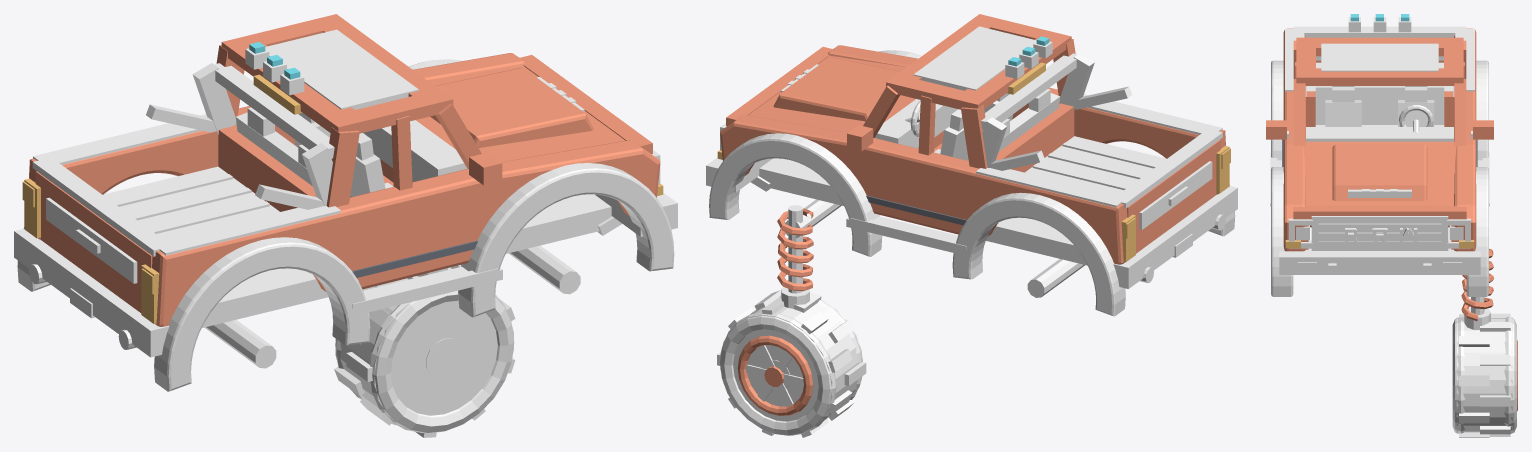
The picture shows the model from 3 angles, left to right: view 1: azimuth 30°, elevation 25°; view 2: azimuth 150°, elevation 25°; view 3: azimuth 270°, elevation 25°; orthographic projection. The views are drawn at different scales.
Visible parts, largest first — view 1: common, bodyPainted, wheel, backLights, energy, stopLights; view 2: common, bodyPainted, wheel, wheelSuspension, wheelPainted, backLights, energy; view 3: common, bodyPainted, wheel, headlights, wheelSuspension.
Part boxes in pixels (x1=…): common: x1=14, y1=29, x2=677, y2=391; bodyPainted: x1=29, y1=14, x2=660, y2=326; wheel: x1=334, y1=265, x2=515, y2=437; backLights: x1=24, y1=178, x2=159, y2=323; energy: x1=352, y1=240, x2=477, y2=277; stopLights: x1=253, y1=74, x2=302, y2=114; common: x1=706, y1=26, x2=1237, y2=316; bodyPainted: x1=720, y1=14, x2=1225, y2=264; wheel: x1=717, y1=290, x2=866, y2=437; wheelSuspension: x1=777, y1=205, x2=813, y2=308; wheelPainted: x1=737, y1=335, x2=813, y2=415; backLights: x1=1121, y1=145, x2=1229, y2=262; energy: x1=866, y1=195, x2=966, y2=225; common: x1=1270, y1=26, x2=1489, y2=296; bodyPainted: x1=1266, y1=28, x2=1493, y2=251; wheel: x1=1452, y1=313, x2=1516, y2=437; headlights: x1=1288, y1=189, x2=1470, y2=271; wheelSuspension: x1=1461, y1=248, x2=1494, y2=329.
Size of the model in its own units: 3.17 by 2.67 by 1.8.
